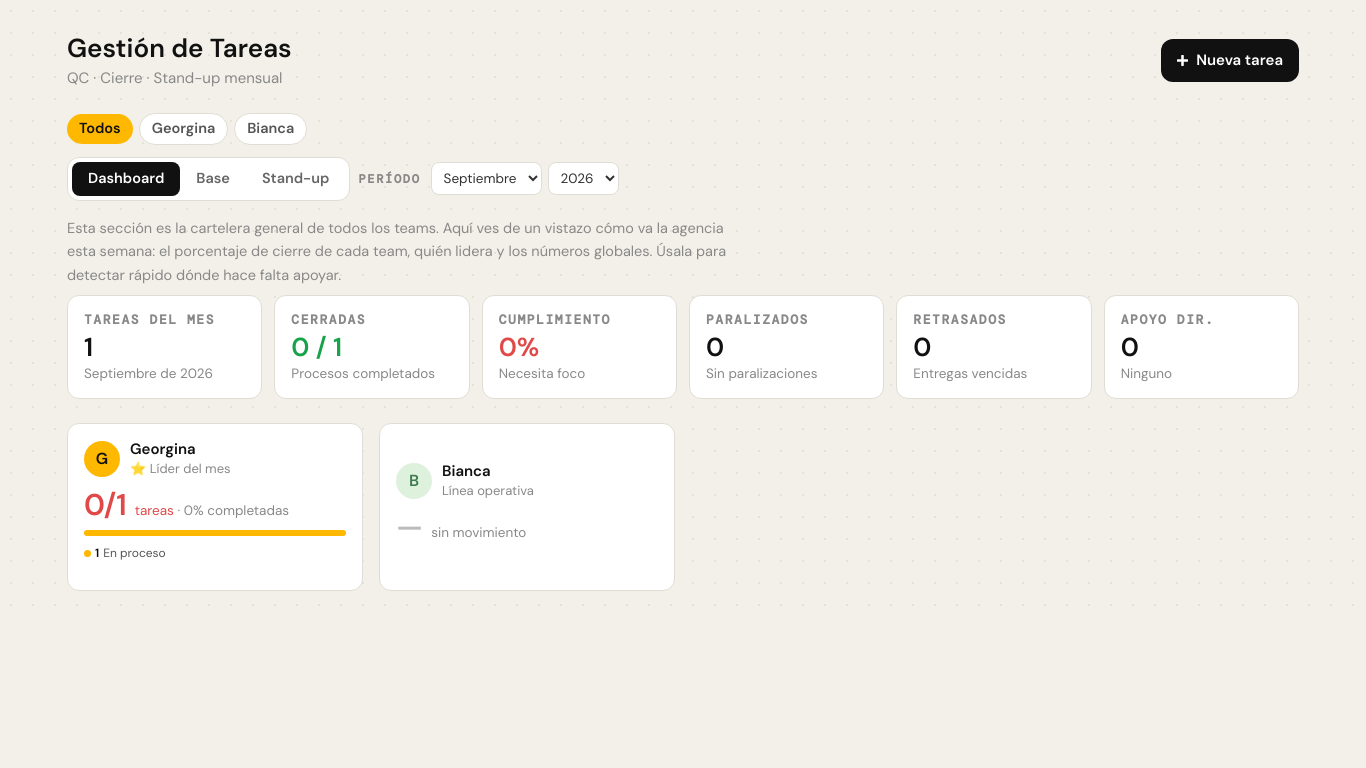
Test: TareasPage › dashboard KPI cards navigate to Base › "Paralizados" opens Base filtered by Estatus: Paralizado
Expected: the text "Cumplimiento" is shown, top-left (499, 311), bottom-right (611, 328)
Step 1. Click the text "Paralizados" → {"x": 758, "y": 320}, box top-left (706, 311), bottom-right (809, 328)
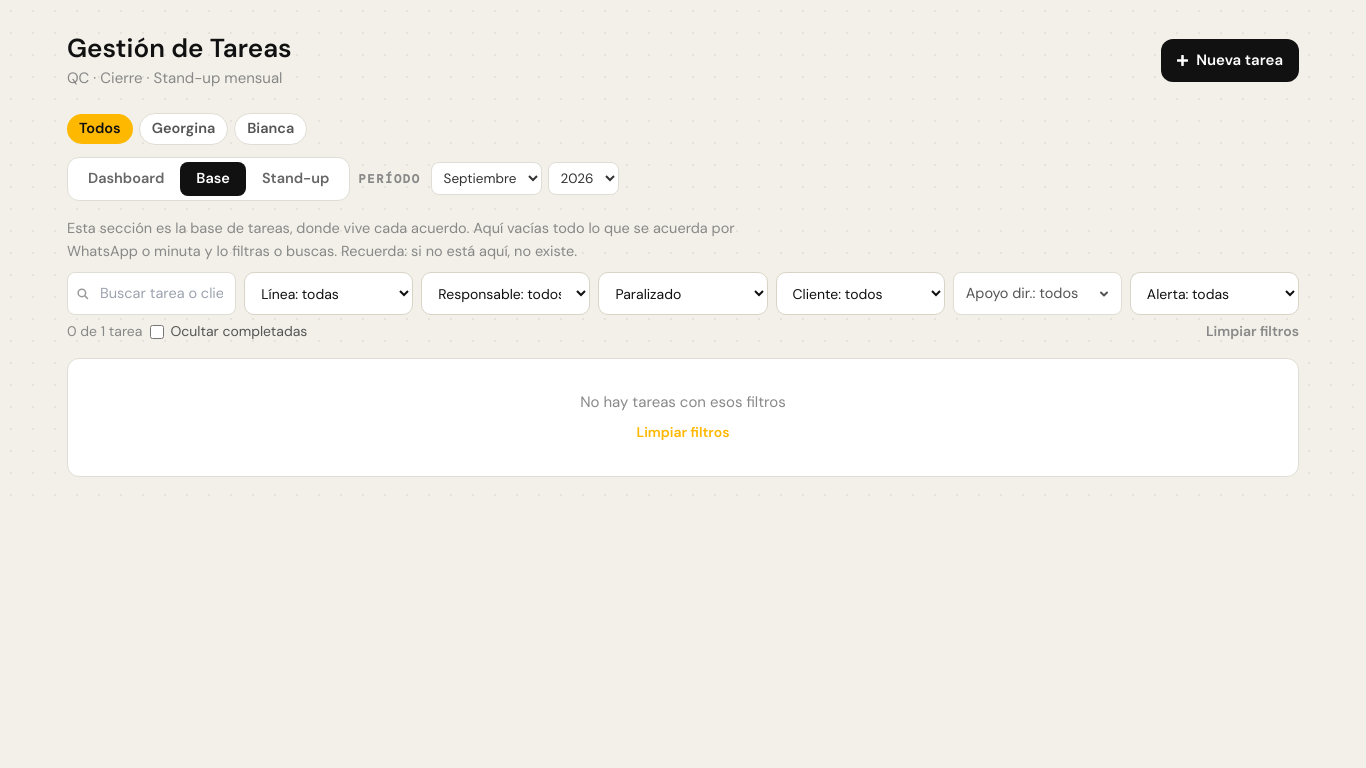
Now the 5th dropdown showing "Paralizado" is shown, box top-left (598, 272), bottom-right (768, 315)
